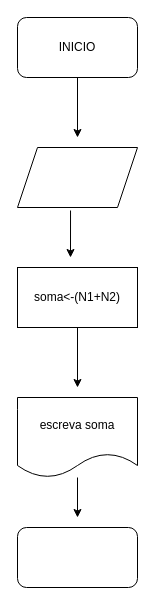
The diagram is 155 pixels wide and 605 high, and some of its shapes have lost their labels. Here are the shapes that lost their labels. From the top down, the centre of each, then its label:
At point (77, 177): "leia N1,N2".
At point (77, 557): "FIM".
